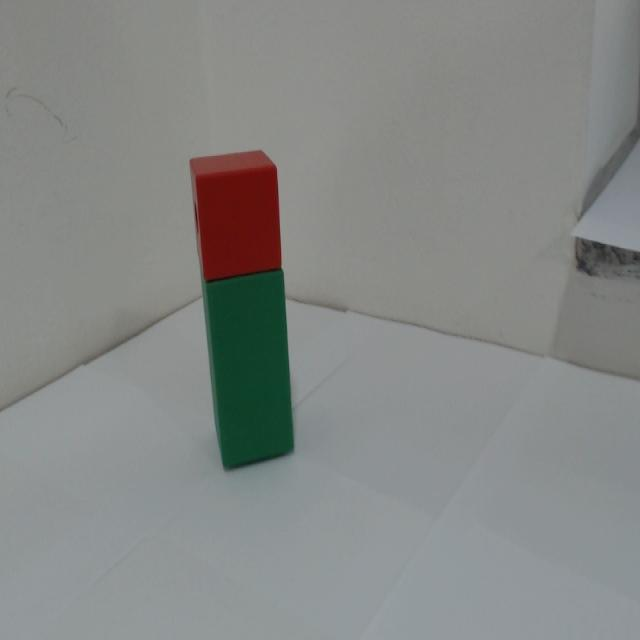cube: (175, 128, 305, 287)
